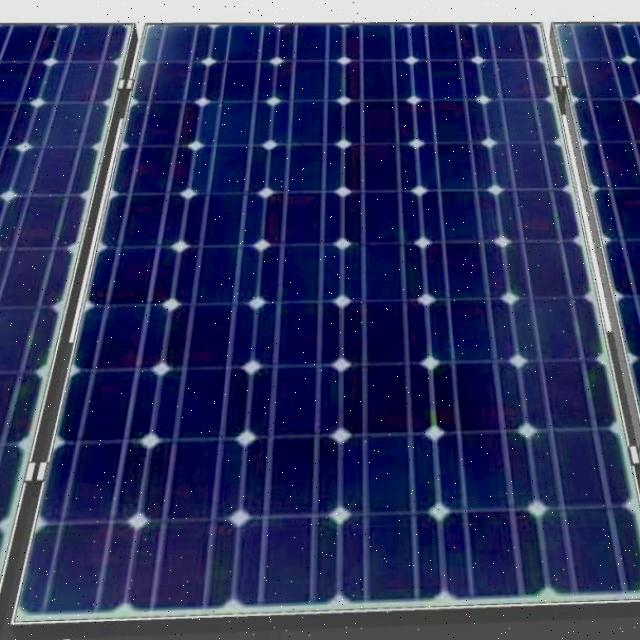Anomaly Solar Panel: (11, 19, 640, 620)
